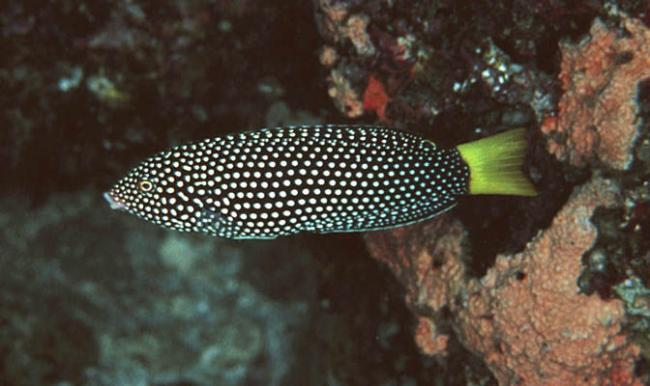fish: (102, 123, 542, 239)
